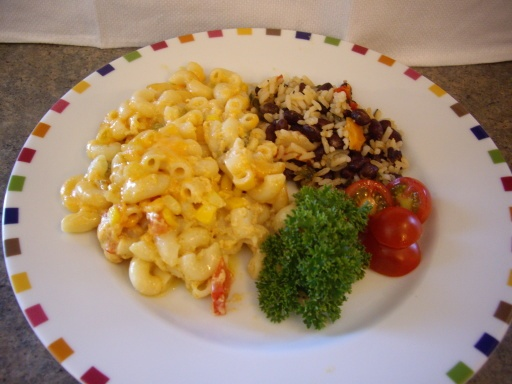background: (46, 37, 345, 196)
